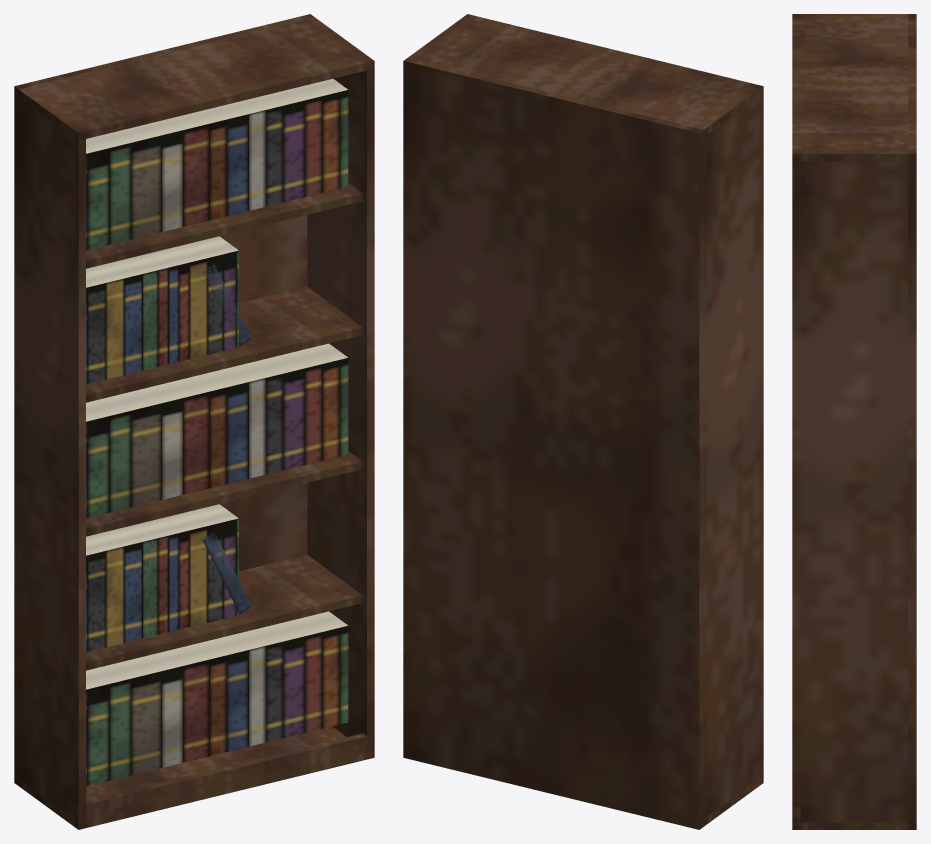
Rendered from bookcase_tall.obj.
3 renders of one model, left to right at view 1: azimuth 30°, elevation 25°; view 2: azimuth 150°, elevation 25°; view 3: azimuth 270°, elevation 25°, orthographic. The views are drawn at different scales.
Parts seen in each view (by area): view 1: bookcase_tall; view 2: bookcase_tall; view 3: bookcase_tall.
Boxes of the visible parts, bbox=[...] form: bookcase_tall: bbox=[14, 14, 374, 829]; bookcase_tall: bbox=[403, 14, 763, 829]; bookcase_tall: bbox=[792, 14, 916, 829].
Size of the model in its own units: 0.8 by 1.8 by 0.3.
1 material, 1 textured.
